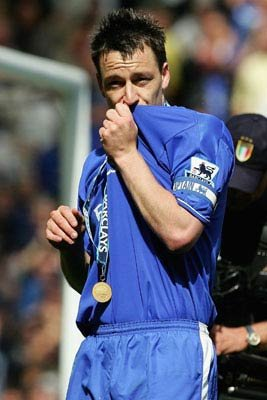face: (102, 46, 158, 124)
